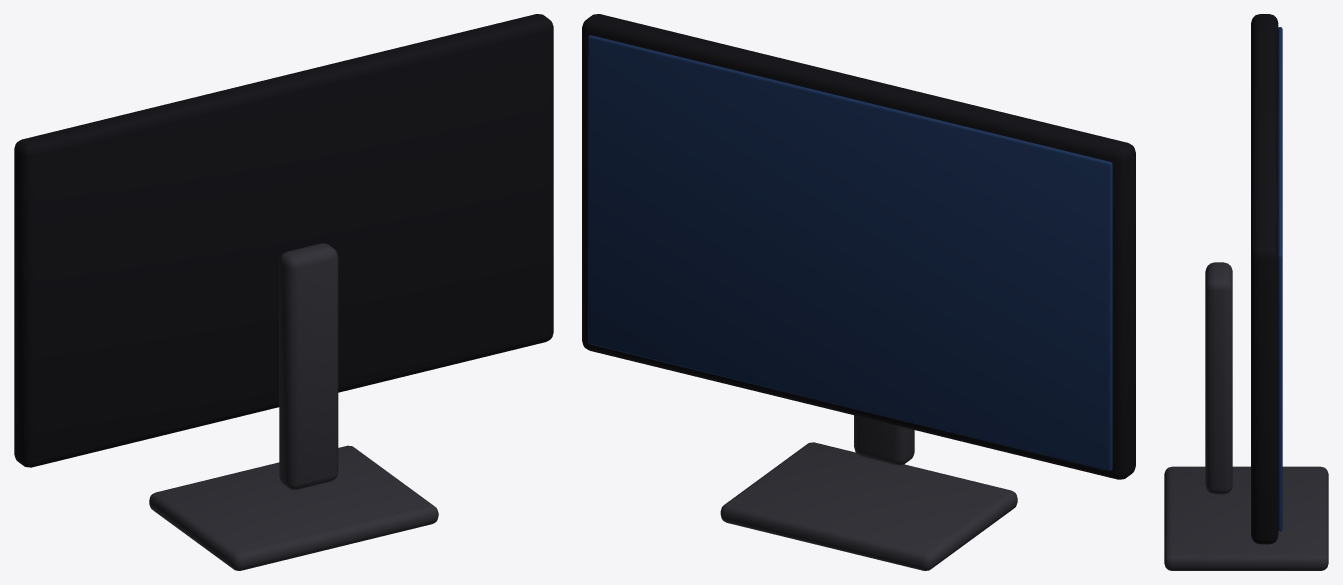
File: monitor.glb
The picture shows the model from 3 angles, left to right: view 1: azimuth 30°, elevation 25°; view 2: azimuth 150°, elevation 25°; view 3: azimuth 270°, elevation 25°; orthographic projection. The views are drawn at different scales.
Parts seen in each view (by area): view 1: monitor; view 2: screen, monitor; view 3: monitor, screen.
Part boxes in pixels (<box>): monitor: <box>14,14,553,570</box>; screen: <box>588,35,1112,470</box>; monitor: <box>582,14,1135,570</box>; monitor: <box>1164,14,1328,570</box>; screen: <box>1278,27,1282,531</box>.
Bounding box in the file's own units: 0.62 × 0.48 × 0.18.
